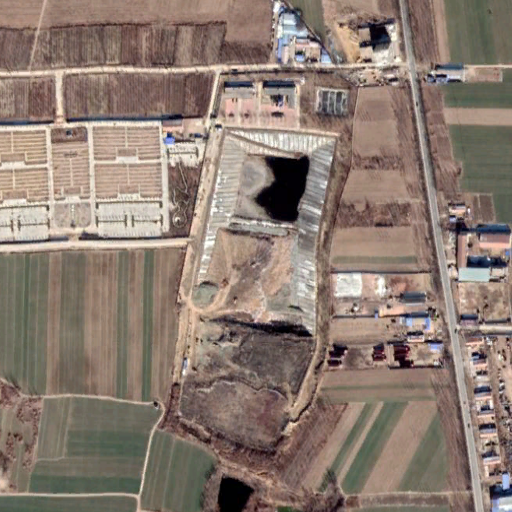lf: (179, 128, 332, 450)
